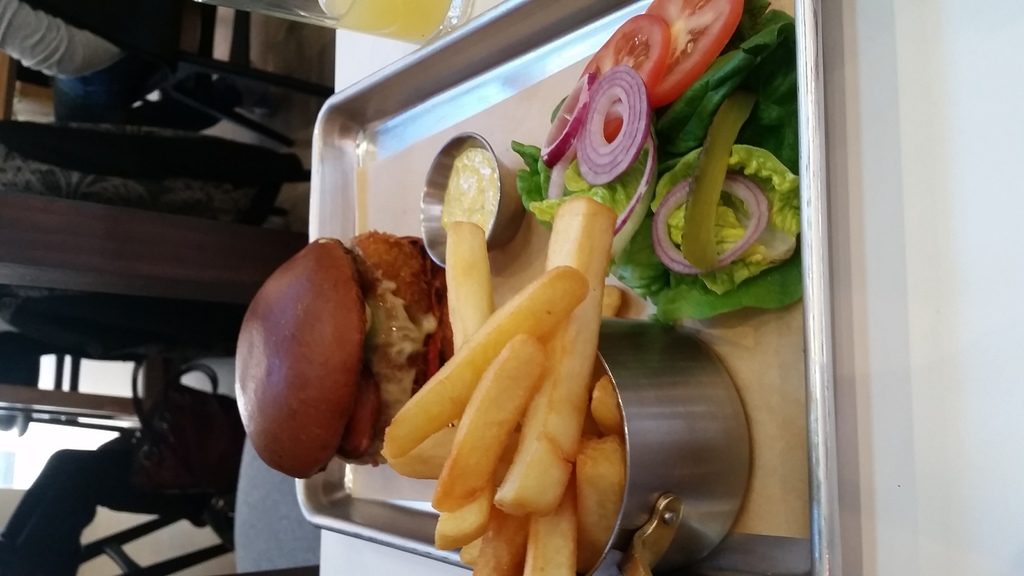French fries: (380, 165, 624, 576)
